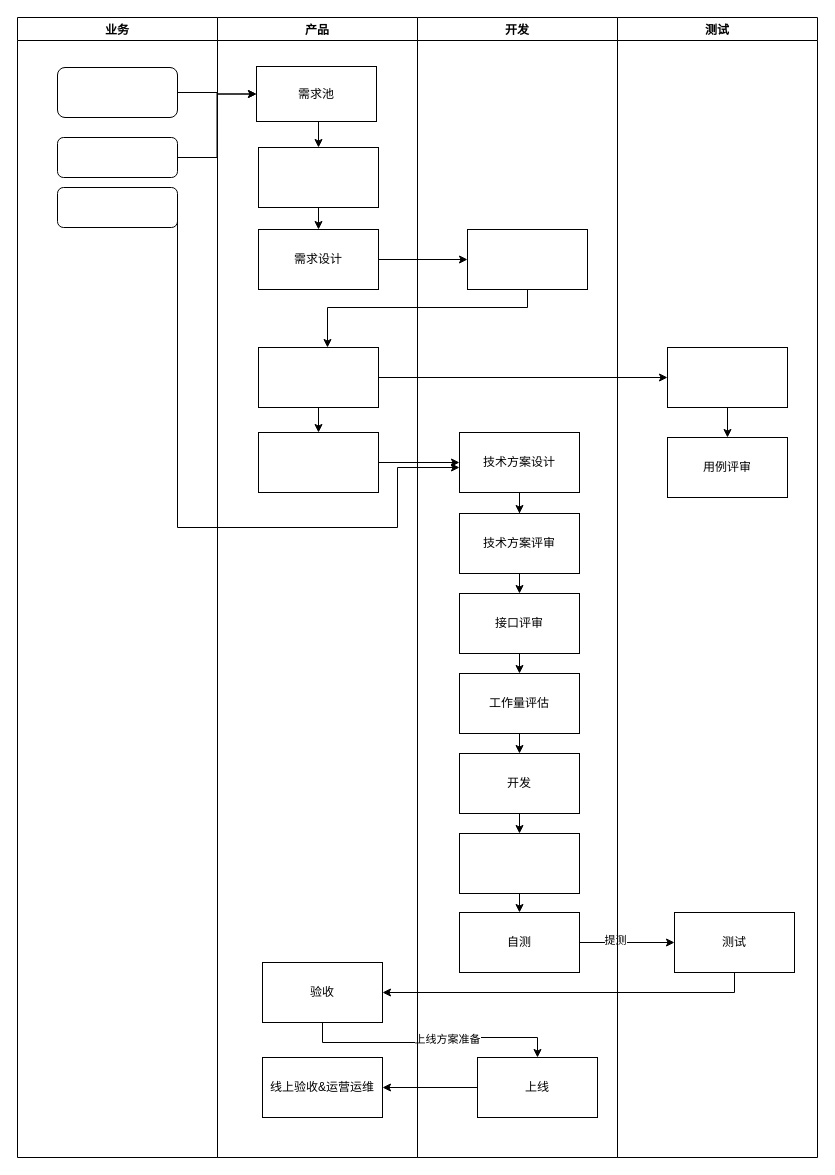
This 835x1175 diagram has some shape labels left out. The centre of each missing label's shape, as x and y in pixels:
"代码评审" goes at point (519, 863).
"平台规划（产品分析、竞品分析、数据分析）" goes at point (117, 92).
"技术优化" goes at point (117, 207).
"技术负责人确认需求" goes at point (527, 259).
"用例设计" goes at point (727, 377).
"用户诉求" goes at point (117, 157).
"需求优先级评定及模块确定" goes at point (318, 177).
"需求定稿" goes at point (318, 462).
"需求评审" goes at point (318, 377).
